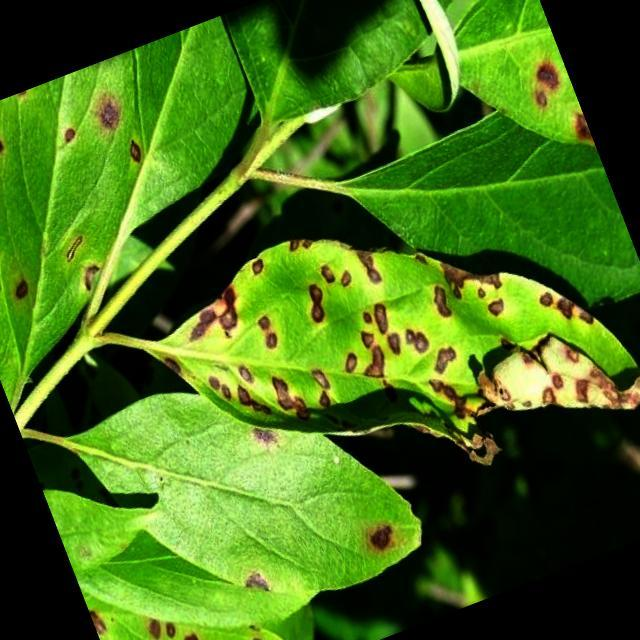Tomato bacterial spot leaf: (118, 118, 640, 592), (73, 315, 456, 640)
